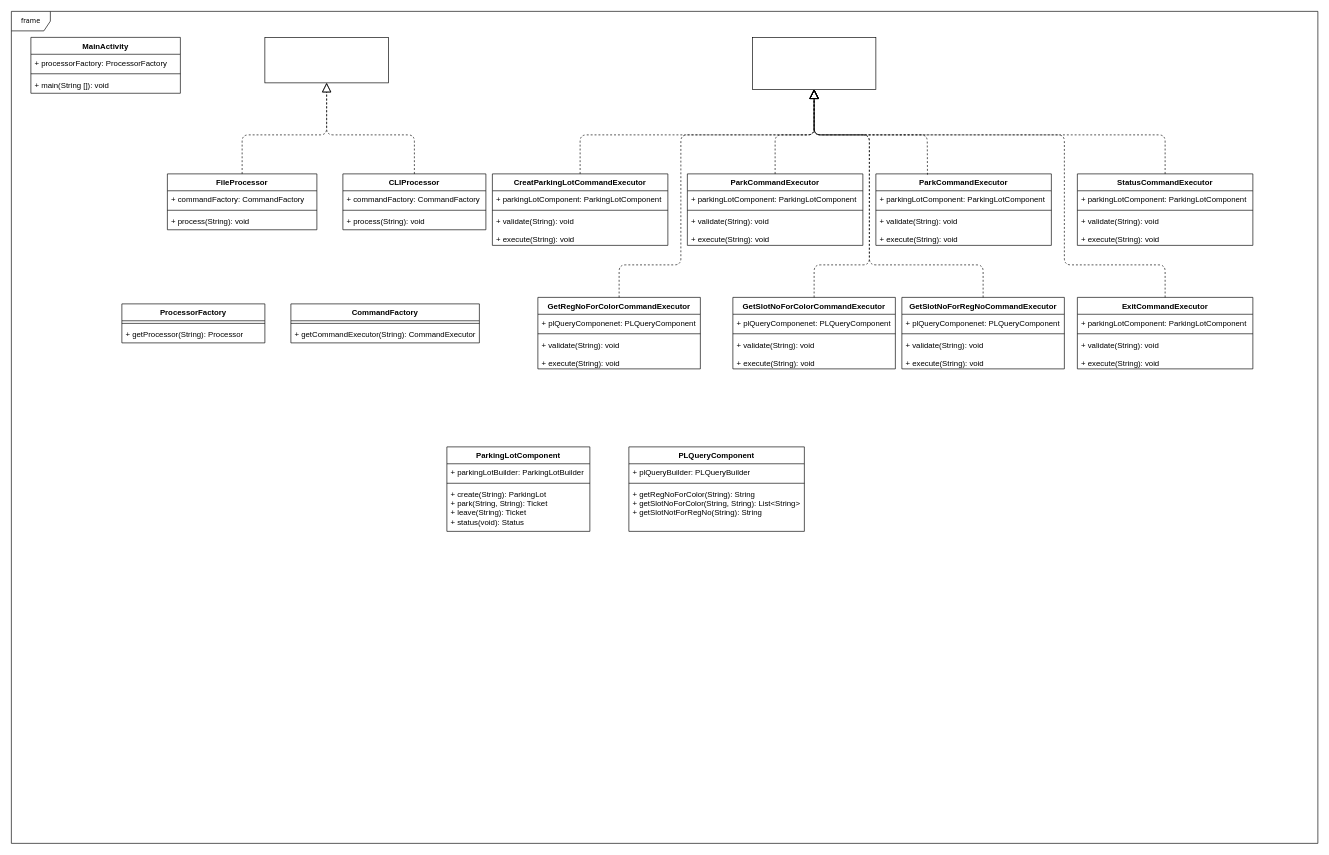
Image size: 1329x855. Some labels were removed from this diagram. Here are the shapes that lost their labels. From the top down, the centre of each, then its label:
[326,60]: <<Interface>> Processor + process(String): void
[814,63]: <<Interface>> CommandExecutor + validate(String): void + execute(String): void
